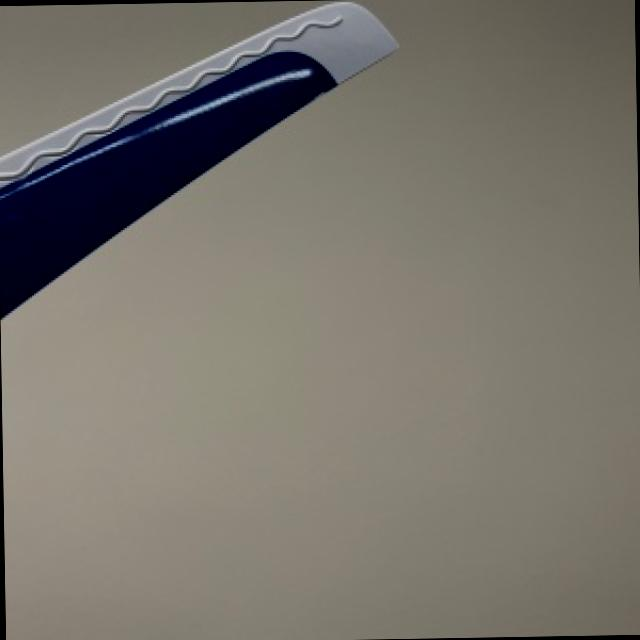healthy: (2, 0, 398, 313)
